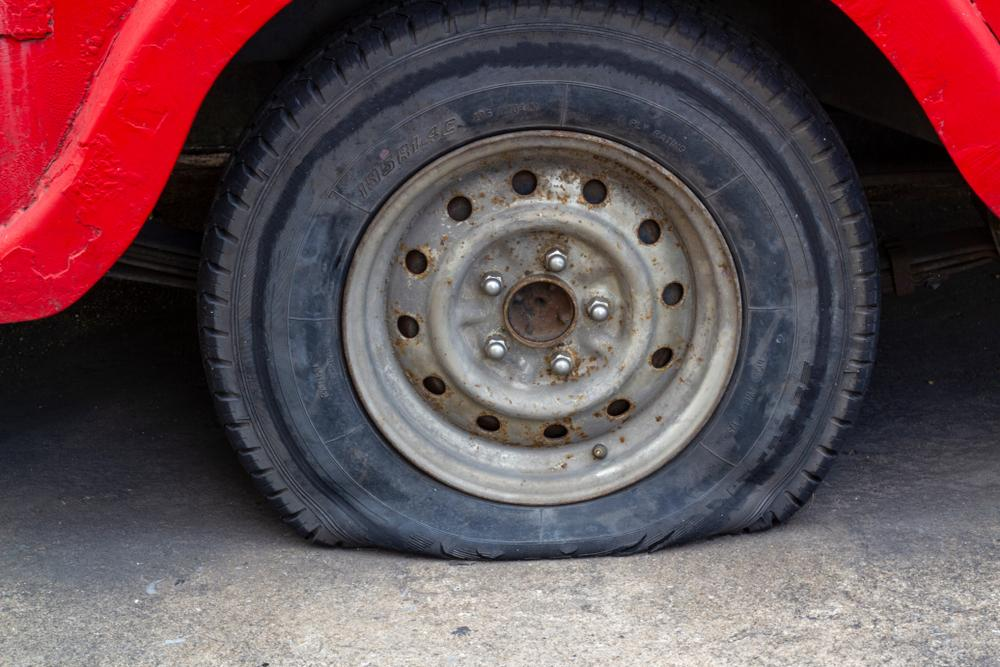tire flat: (199, 0, 877, 562)
